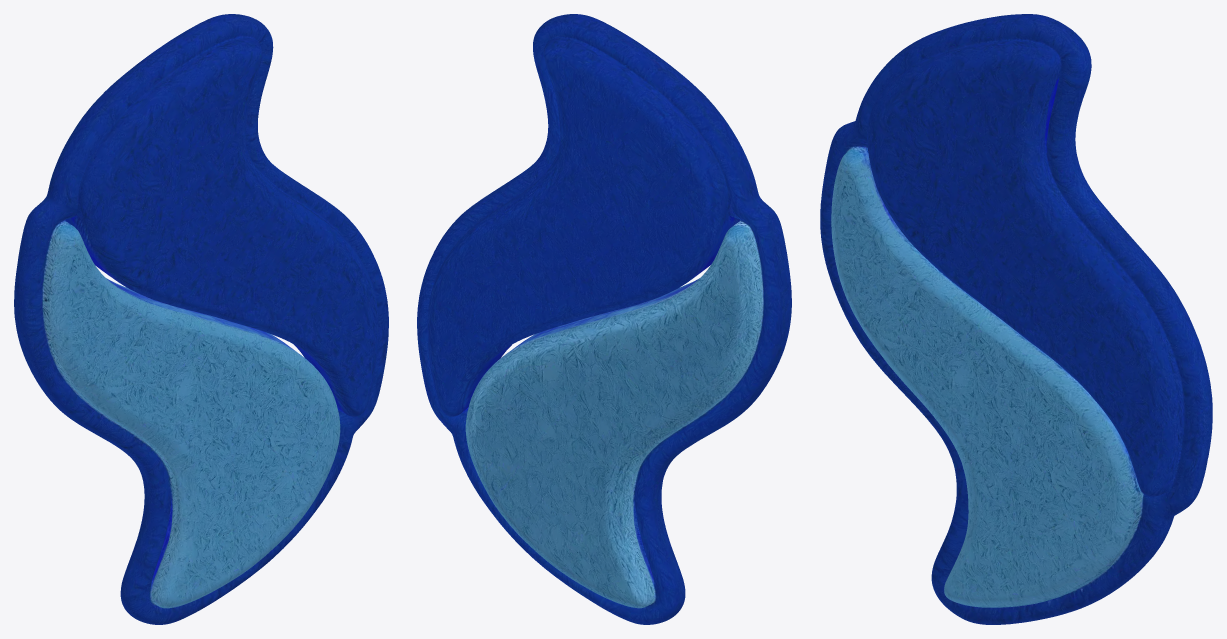
File: opt_azure_embrace.glb
3 views of the same model, side by side, from view 1: azimuth 30°, elevation 25°; view 2: azimuth 150°, elevation 25°; view 3: azimuth 330°, elevation 25° (orthographic). The views are drawn at different scales.
Size of the model in its own units: 1.24 by 1.9 by 0.2105.
1 material, 1 textured.
